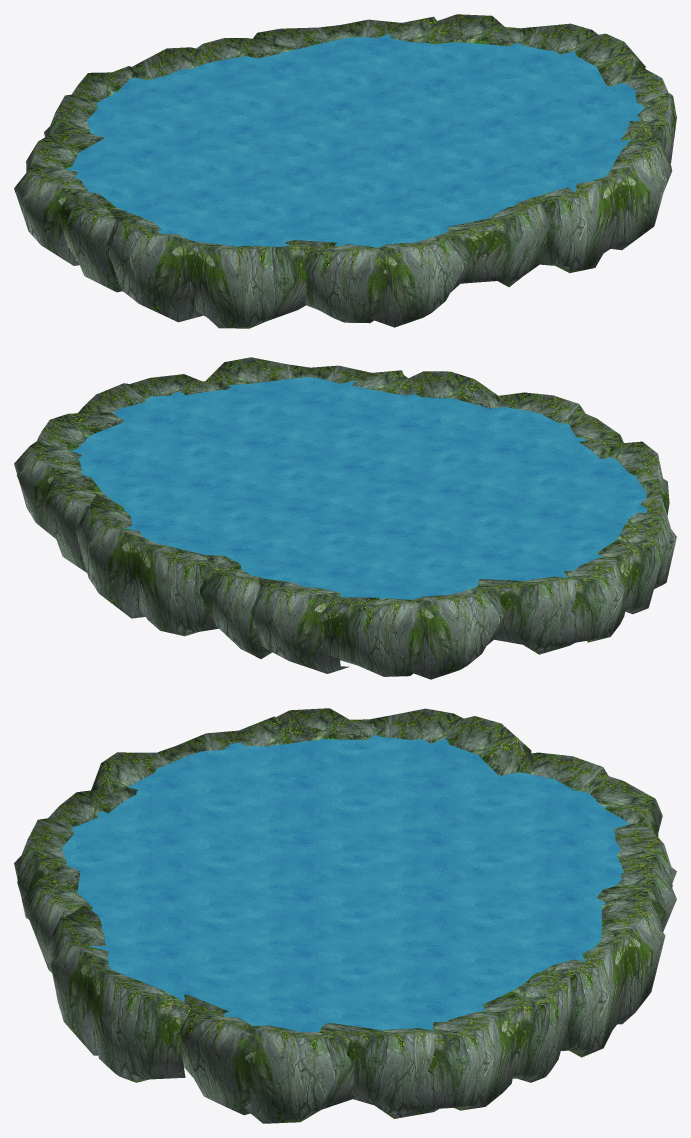
The model's file is environment_stone_zhucheng_001_c.FBX.
3 renders of one model, top to bottom at view 1: azimuth 30°, elevation 25°; view 2: azimuth 150°, elevation 25°; view 3: azimuth 270°, elevation 25°, orthographic. The views are drawn at different scales.
Visible parts, largest first — view 1: environment_stone_zhucheng_001_c2, environment_stone_zhucheng_001_c1; view 2: environment_stone_zhucheng_001_c2, environment_stone_zhucheng_001_c1; view 3: environment_stone_zhucheng_001_c2, environment_stone_zhucheng_001_c1.
Part boxes in pixels (bbox=[...]): environment_stone_zhucheng_001_c2: bbox=[65, 34, 644, 247]; environment_stone_zhucheng_001_c1: bbox=[14, 14, 676, 328]; environment_stone_zhucheng_001_c2: bbox=[71, 377, 647, 599]; environment_stone_zhucheng_001_c1: bbox=[14, 357, 676, 679]; environment_stone_zhucheng_001_c2: bbox=[62, 735, 628, 1032]; environment_stone_zhucheng_001_c1: bbox=[14, 708, 676, 1123].
Size of the model in its own units: 931 by 141 by 757.
2 materials, 2 textured.
